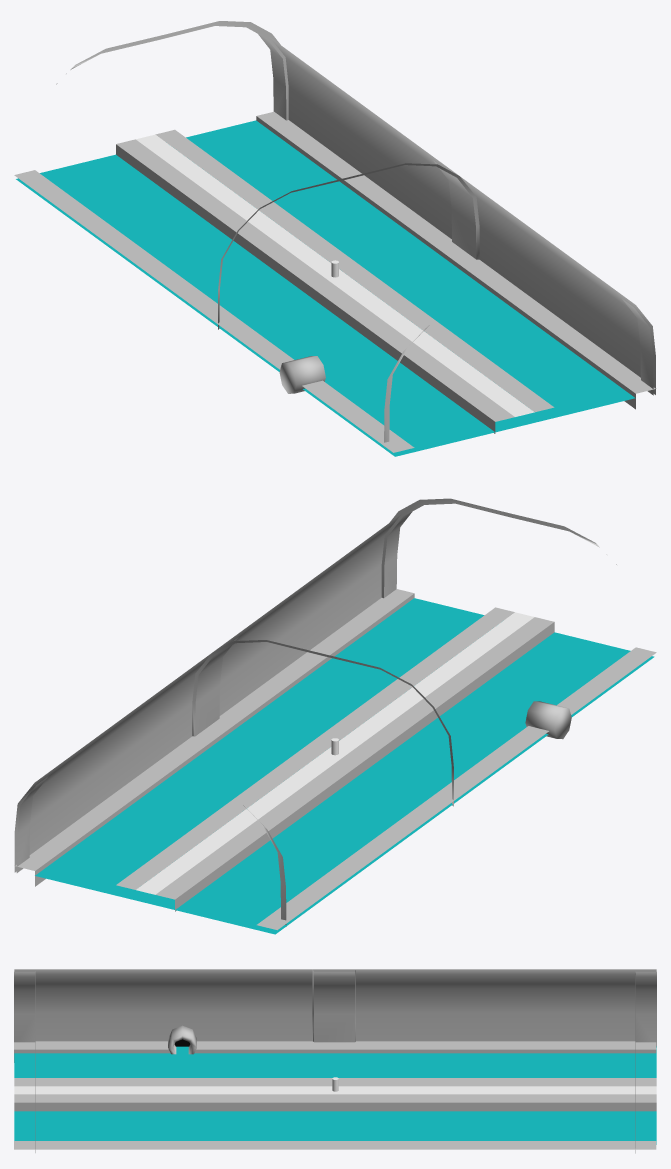
The model's file is SewerWall.glb.
The picture shows the model from 3 angles, top to bottom: view 1: azimuth 30°, elevation 25°; view 2: azimuth 150°, elevation 25°; view 3: azimuth 270°, elevation 25°; orthographic projection. The views are drawn at different scales.
Visible parts, largest first — view 1: Floor, Plane, Plane.001, MeshInstance3D4, MeshInstance3D3, MeshInstance3D2, Plane.004, Plane.002, Cylinder; view 2: Floor, Plane, Plane.001, MeshInstance3D4, MeshInstance3D3, MeshInstance3D2, Plane.004, Plane.002, Cylinder; view 3: Plane, Floor, Plane.001, MeshInstance3D3, MeshInstance3D2, MeshInstance3D4, Plane.004, Plane.002, Cylinder.
Part boxes in pixels (<box>): Floor: <box>16,120,635,456</box>; Plane: <box>269,37,655,394</box>; Plane.001: <box>14,111,656,452</box>; MeshInstance3D4: <box>116,139,514,433</box>; MeshInstance3D3: <box>155,129,554,412</box>; MeshInstance3D2: <box>136,134,534,416</box>; Plane.004: <box>56,21,653,447</box>; Plane.002: <box>218,160,479,329</box>; Cylinder: <box>279,356,325,393</box>; Floor: <box>35,598,654,934</box>; Plane: <box>14,514,401,872</box>; Plane.001: <box>15,589,656,930</box>; MeshInstance3D4: <box>155,617,554,911</box>; MeshInstance3D3: <box>116,607,514,889</box>; MeshInstance3D2: <box>136,612,534,894</box>; Plane.004: <box>16,498,616,926</box>; Plane.002: <box>192,637,453,806</box>; Cylinder: <box>525,701,571,739</box>; Plane: <box>14,969,656,1041</box>; Floor: <box>14,1046,656,1144</box>; Plane.001: <box>14,1041,656,1149</box>; MeshInstance3D3: <box>14,1094,656,1111</box>; MeshInstance3D2: <box>14,1086,656,1094</box>; MeshInstance3D4: <box>14,1078,656,1086</box>; Plane.004: <box>14,971,656,1153</box>; Plane.002: <box>312,969,355,1042</box>; Cylinder: <box>168,1025,196,1054</box>.
Size of the model in its own units: 41.27 by 19.14 by 100.
